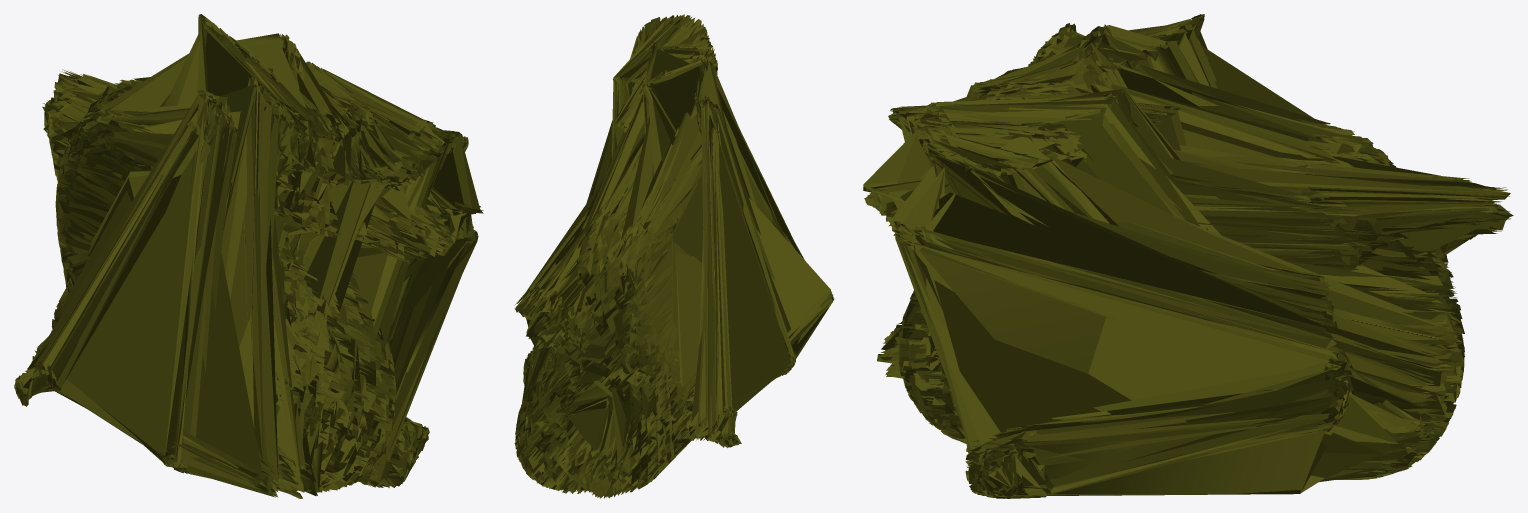
File: dragon.obj
3 views of the same model, side by side, from view 1: azimuth 30°, elevation 25°; view 2: azimuth 150°, elevation 25°; view 3: azimuth 270°, elevation 25° (orthographic). The views are drawn at different scales.
Parts seen in each view (by area): view 1: dragon_vrip_res3; view 2: dragon_vrip_res3; view 3: dragon_vrip_res3.
Boxes of the visible parts, <box> form: dragon_vrip_res3: <box>14,14,483,498</box>; dragon_vrip_res3: <box>514,14,834,498</box>; dragon_vrip_res3: <box>863,14,1513,498</box>.
Size of the model in its own units: 1.98 by 2.93 by 3.74.
